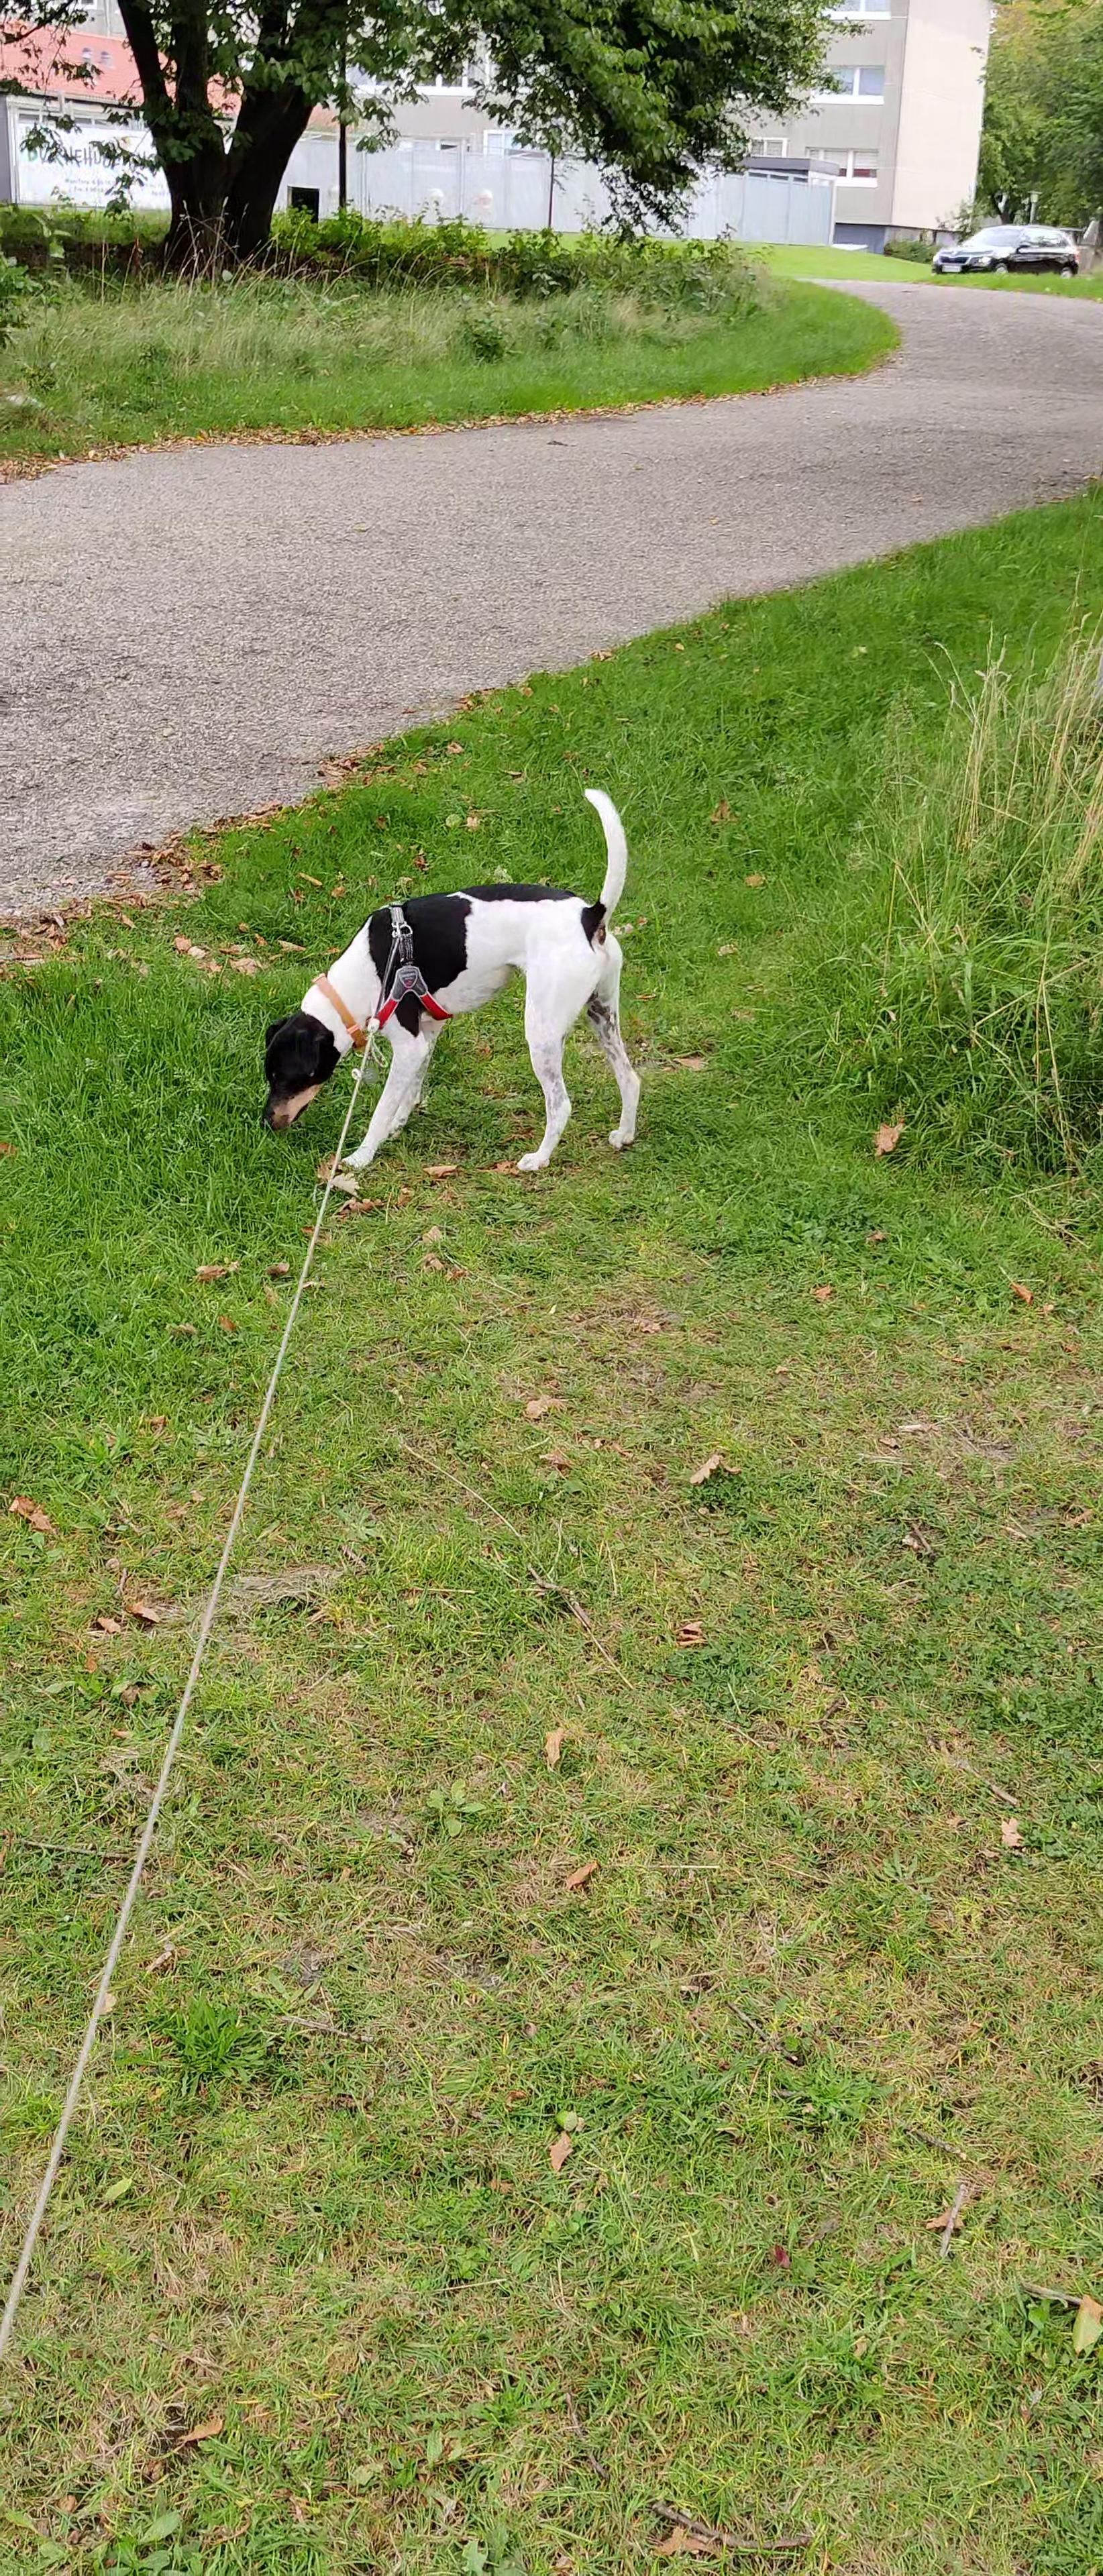Dog: (247, 775, 651, 1184)
